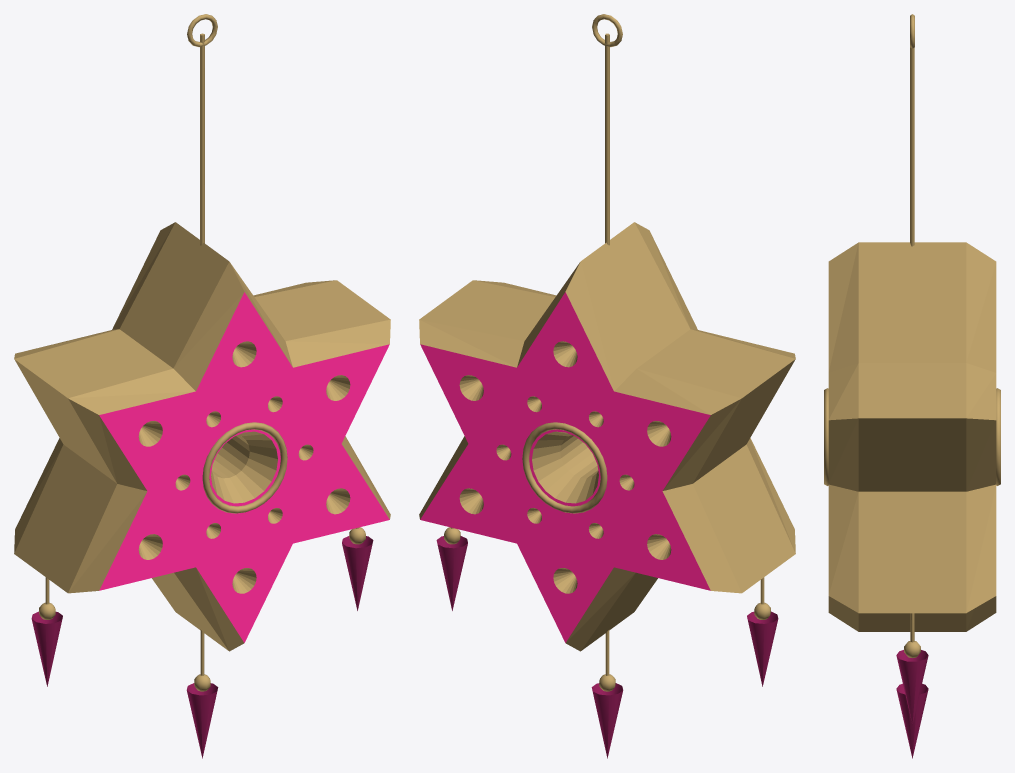
Rendered from diwali-kandil.glb.
3 views of the same model, side by side, from view 1: azimuth 30°, elevation 25°; view 2: azimuth 150°, elevation 25°; view 3: azimuth 270°, elevation 25° (orthographic).
Visible parts, largest first — view 1: Kandil_Body, Kandil_Trim, Kandil_Tassels; view 2: Kandil_Body, Kandil_Trim, Kandil_Tassels; view 3: Kandil_Body, Kandil_Trim, Kandil_Tassels.
Part boxes in pixels (left/top/right/bottom): Kandil_Body: left=14, top=222, right=390, bottom=651; Kandil_Trim: left=39, top=14, right=365, bottom=691; Kandil_Tassels: left=31, top=536, right=373, bottom=758; Kandil_Body: left=419, top=222, right=795, bottom=651; Kandil_Trim: left=444, top=14, right=770, bottom=691; Kandil_Tassels: left=436, top=536, right=778, bottom=758; Kandil_Body: left=828, top=242, right=996, bottom=631; Kandil_Trim: left=824, top=14, right=1000, bottom=657; Kandil_Tassels: left=896, top=650, right=928, bottom=758.
Bounding box in the file's own units: 0.1805 × 0.3811 × 0.0821.
